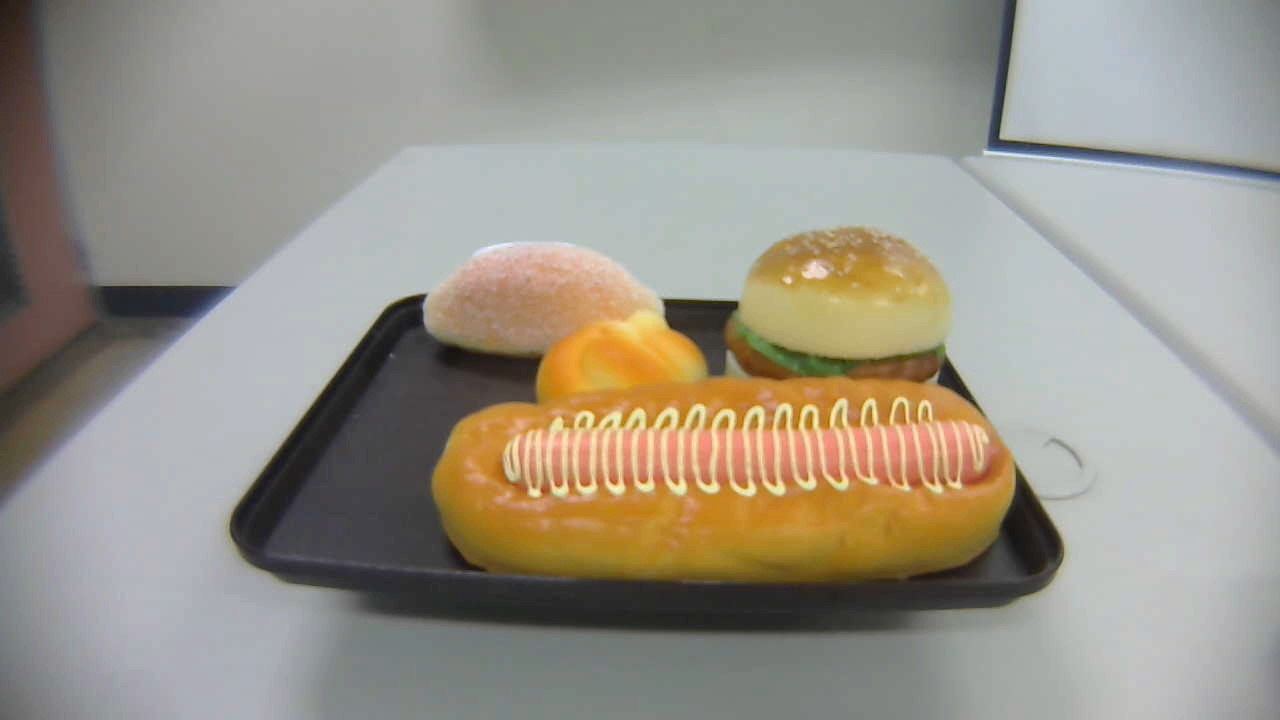coconut: (422, 242, 666, 356)
hamburger: (723, 222, 950, 416)
hot dog: (431, 375, 1016, 586)
twist bread: (534, 308, 709, 423)
